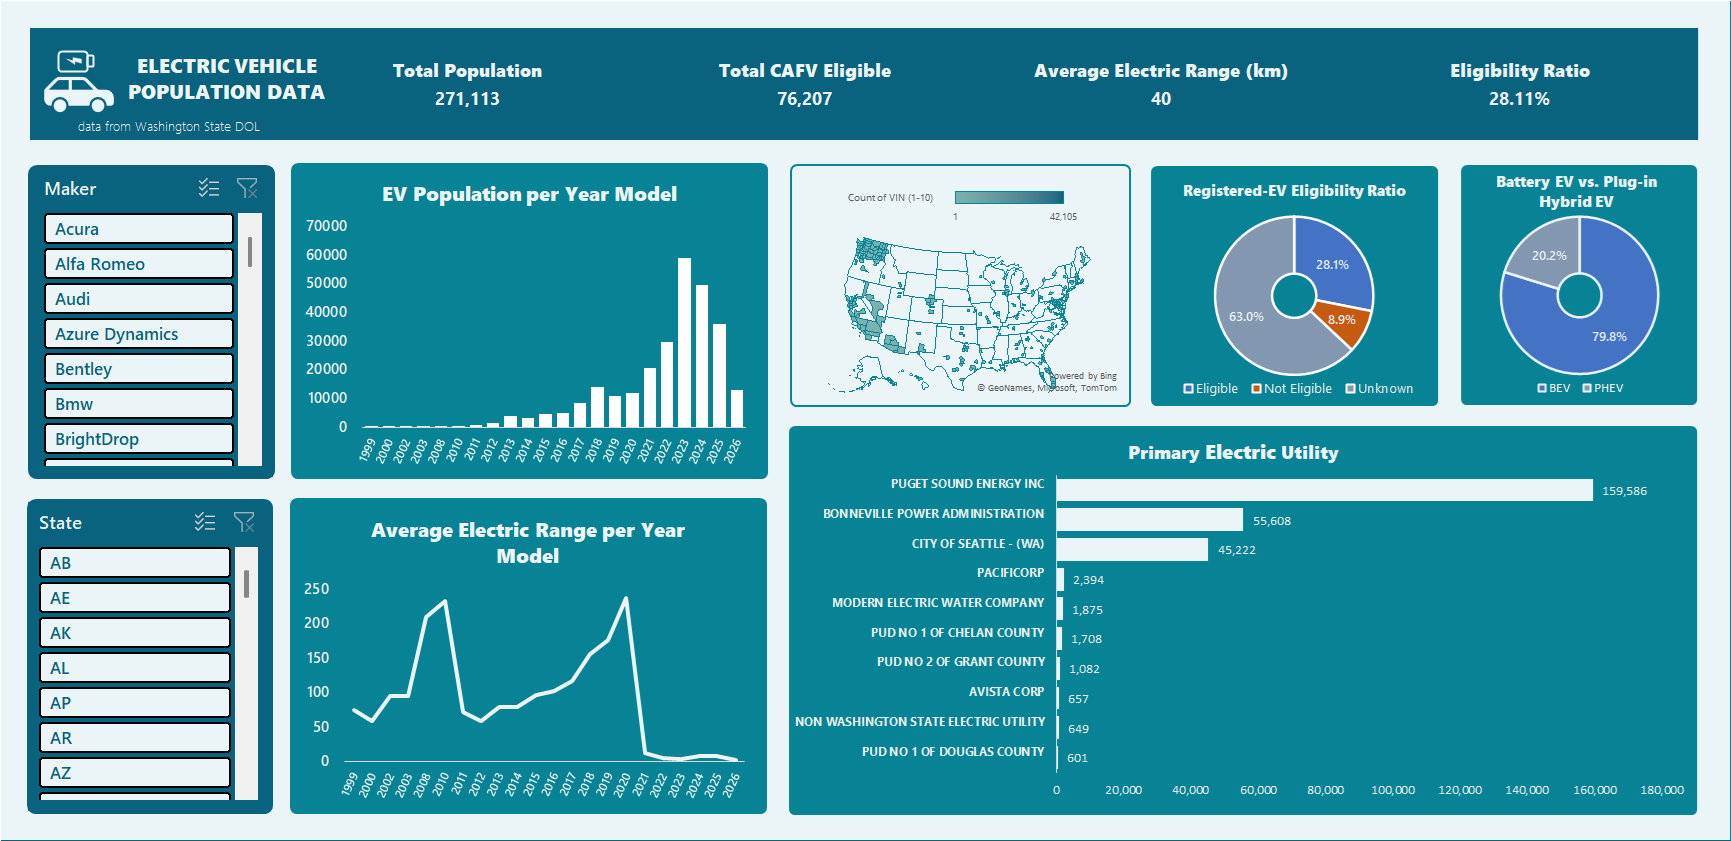

The dashboard page shown, as its layout file describes it:
{"tool":"powerbi","page":{"name":"Executive Overview","canvas":[1280,720],"ordinal":0},"visuals":[{"type":"card","title":"Total Electric Vehicles","fields":{"Values":["vw_EV_PowerBI_Ready.Total EVs"]},"box":[436,34,226,118],"z":0},{"type":"card","title":"Clean Alternative Fuel Vehicle (CAFV) Eligible EVs","fields":{"Values":["vw_EV_PowerBI_Ready.Incentivization %"]},"box":[675,34,226,118],"z":1000},{"type":"card","title":"Average Electric Range of an EV/s","fields":{"Values":["vw_EV_PowerBI_Ready.Ave Electric Range"]},"box":[914,34,228,118],"z":2000},{"type":"slicer","title":"Sort by type","fields":{"Values":["vw_EV_PowerBI_Ready.ev_type"]},"box":[1151.2,95,115,56.2],"z":3000},{"type":"columnChart","title":"The Population of Modern Electric Vehicles","fields":{"Category":["vw_EV_PowerBI_Ready.year_model.Variation.Date Hierarchy.Year"],"Y":["vw_EV_PowerBI_Ready.Total EVs"]},"box":[12.5,190,408.8,246.2],"z":4000},{"type":"areaChart","fields":{"Category":["vw_EV_PowerBI_Ready.year_model"],"Y":["vw_EV_PowerBI_Ready.Ave Electric Range"]},"box":[436.2,190,421.2,246.2],"z":5000},{"type":"treemap","fields":{"Group":["vw_EV_PowerBI_Ready.maker"],"Values":["vw_EV_PowerBI_Ready.Total EVs"]},"box":[871.2,190,395,492.5],"z":6000},{"type":"donutChart","title":"How many EV owner getting incentivized?","fields":{"Category":["vw_EV_PowerBI_Ready.validated_eligibility"],"Y":["CountNonNull(vw_EV_PowerBI_Ready.validated_eligibility)"]},"box":[12.5,436.2,408.8,246.2],"z":7000},{"type":"textbox","box":[17.5,33.8,403.8,117.5],"z":8000},{"type":"textbox","box":[6.6,21.1,78.2,132.7],"z":9000},{"type":"map","fields":{"X":["vw_EV_PowerBI_Ready.longitude"],"Y":["vw_EV_PowerBI_Ready.latitude"]},"box":[436.2,436.2,421.2,246.2],"z":10000},{"type":"shape","box":[0,165,1280,7.5],"z":11000},{"type":"shape","box":[0,14.3,1280,7.1],"z":12000},{"type":"shape","box":[0,697.1,1280,8.6],"z":13000},{"type":"image","box":[1150,39.4,116.1,30.6],"z":14000},{"type":"image","box":[1180,70,57.8,17.2],"z":15000}]}

Visuals, with their boxes on the page's 1280x720 design canvas (x1, y1, x2, y2). These are canvas units, not pixel positions in the 1731x841 screenshot, which may show the page scaled, cropped or inside an application window:
"Total Electric Vehicles" card: left=436, top=34, right=662, bottom=152
"Clean Alternative Fuel Vehicle (CAFV) Eligible EVs" card: left=675, top=34, right=901, bottom=152
"Average Electric Range of an EV/s" card: left=914, top=34, right=1142, bottom=152
"Sort by type" slicer: left=1151, top=95, right=1266, bottom=151
"The Population of Modern Electric Vehicles" columnChart: left=12, top=190, right=421, bottom=436
areaChart - vw_EV_PowerBI_Ready.year_model x vw_EV_PowerBI_Ready.Ave Electric Range: left=436, top=190, right=857, bottom=436
treemap - vw_EV_PowerBI_Ready.maker x vw_EV_PowerBI_Ready.Total EVs: left=871, top=190, right=1266, bottom=682
"How many EV owner getting incentivized?" donutChart: left=12, top=436, right=421, bottom=682
textbox: left=18, top=34, right=421, bottom=151
textbox: left=7, top=21, right=85, bottom=154
map - vw_EV_PowerBI_Ready.longitude x vw_EV_PowerBI_Ready.latitude: left=436, top=436, right=857, bottom=682
shape: left=0, top=165, right=1280, bottom=172
shape: left=0, top=14, right=1280, bottom=21
shape: left=0, top=697, right=1280, bottom=706
image: left=1150, top=39, right=1266, bottom=70
image: left=1180, top=70, right=1238, bottom=87
